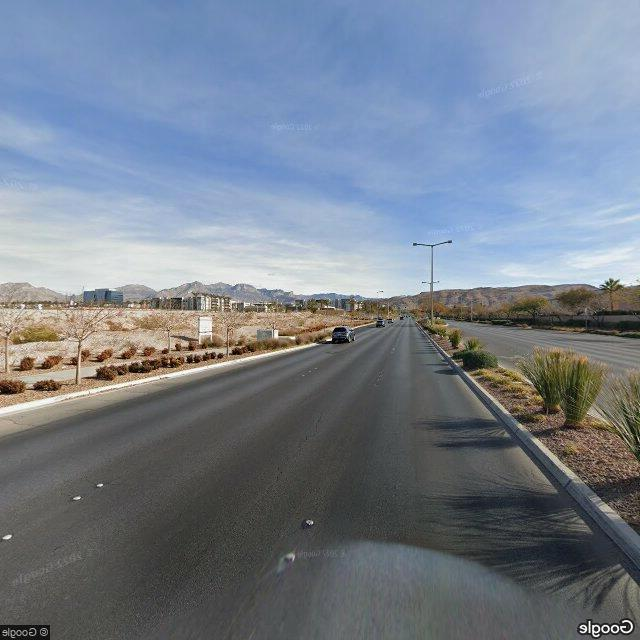pothole: (260, 406, 331, 501)
